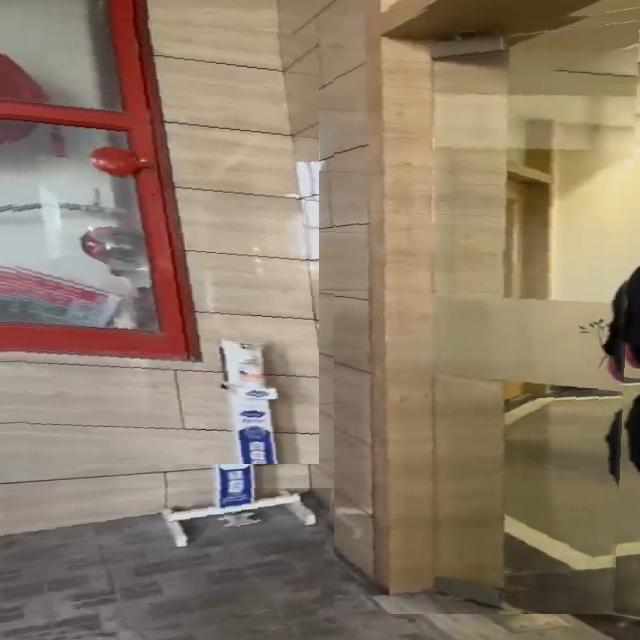door: (334, 5, 640, 614)
floor: (0, 488, 334, 640)
wall: (0, 5, 319, 464)
